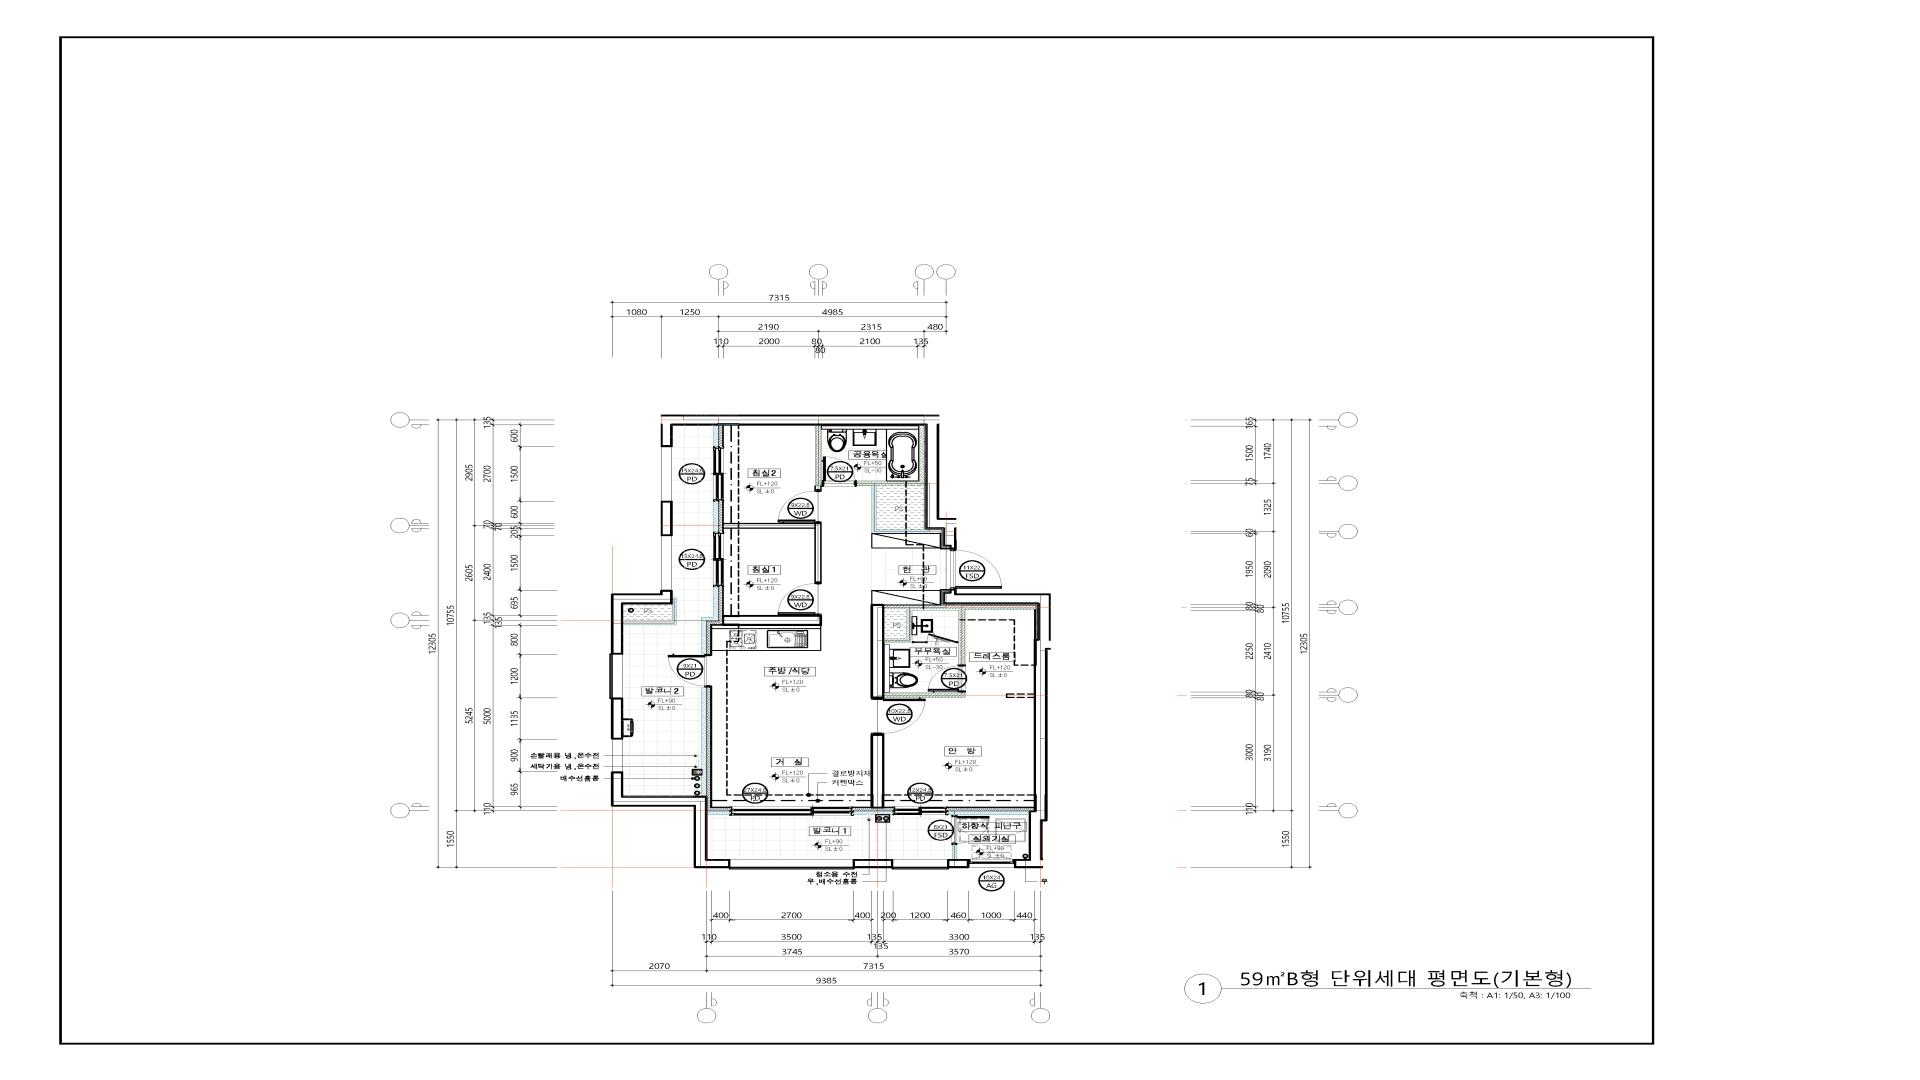background: (0, 0, 1920, 1080)
door: (949, 549, 1002, 589), (870, 698, 926, 735), (778, 485, 822, 524), (777, 582, 822, 615), (667, 654, 712, 687), (952, 815, 990, 845), (822, 456, 857, 487), (928, 665, 967, 692), (927, 633, 959, 644)
wall: (661, 414, 956, 549), (943, 589, 1051, 868), (870, 604, 1038, 698), (611, 771, 731, 868), (857, 426, 942, 534), (724, 522, 823, 582), (611, 589, 673, 654), (624, 597, 676, 625), (723, 615, 822, 626), (702, 587, 719, 654), (870, 735, 885, 808), (884, 609, 906, 638), (702, 687, 707, 795), (611, 699, 624, 740), (661, 501, 673, 537), (815, 426, 822, 485), (853, 858, 893, 868), (948, 811, 1029, 815), (947, 858, 969, 868), (713, 501, 719, 531), (855, 811, 893, 815), (713, 426, 719, 446), (707, 811, 729, 815), (952, 845, 957, 860)
window: (729, 807, 853, 816), (731, 860, 853, 869), (713, 446, 724, 502), (609, 654, 622, 699), (713, 531, 724, 587), (661, 447, 671, 501), (661, 537, 671, 589), (893, 860, 947, 869), (893, 807, 948, 815), (969, 860, 1014, 868), (612, 740, 622, 771), (913, 641, 927, 644)
